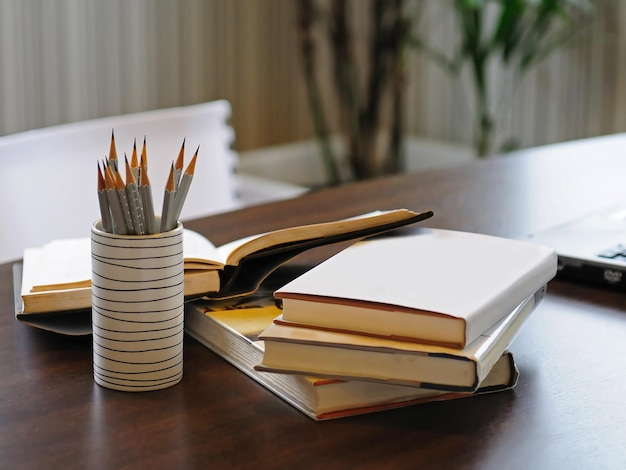not a gesture sign: (104, 160, 129, 233)
